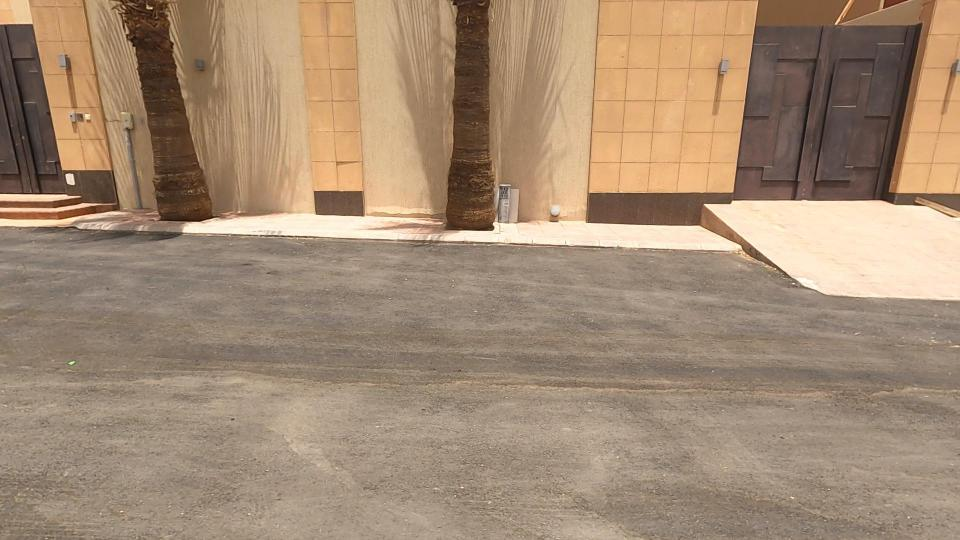GARBAGE: (463, 137, 554, 258)
